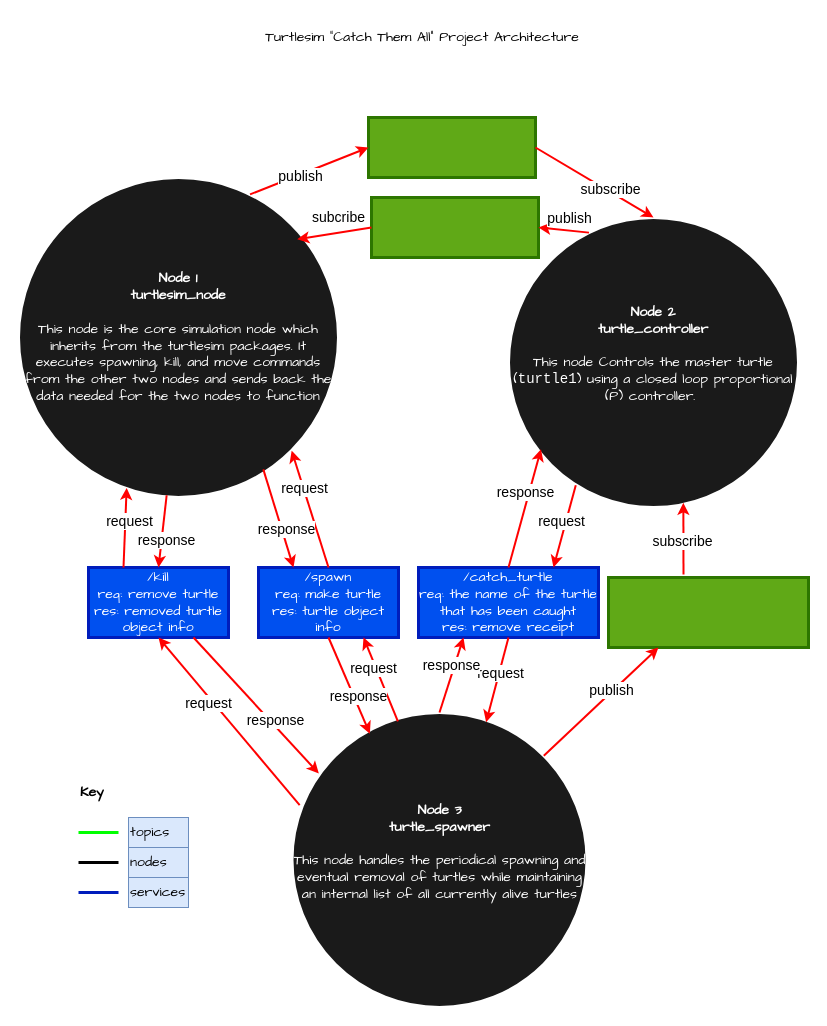
Some shapes in this 827 by 1026 pixel diagram are drawn without their labels. Each missing label, with the box of its shape:
/alive_turtles list of currently alive turtles and their coordinates: (606, 576, 810, 648)
/turtle1/cmd_vel Velocity commands: (370, 196, 540, 258)
/turtle1/pose Pose data: (366, 116, 536, 178)
